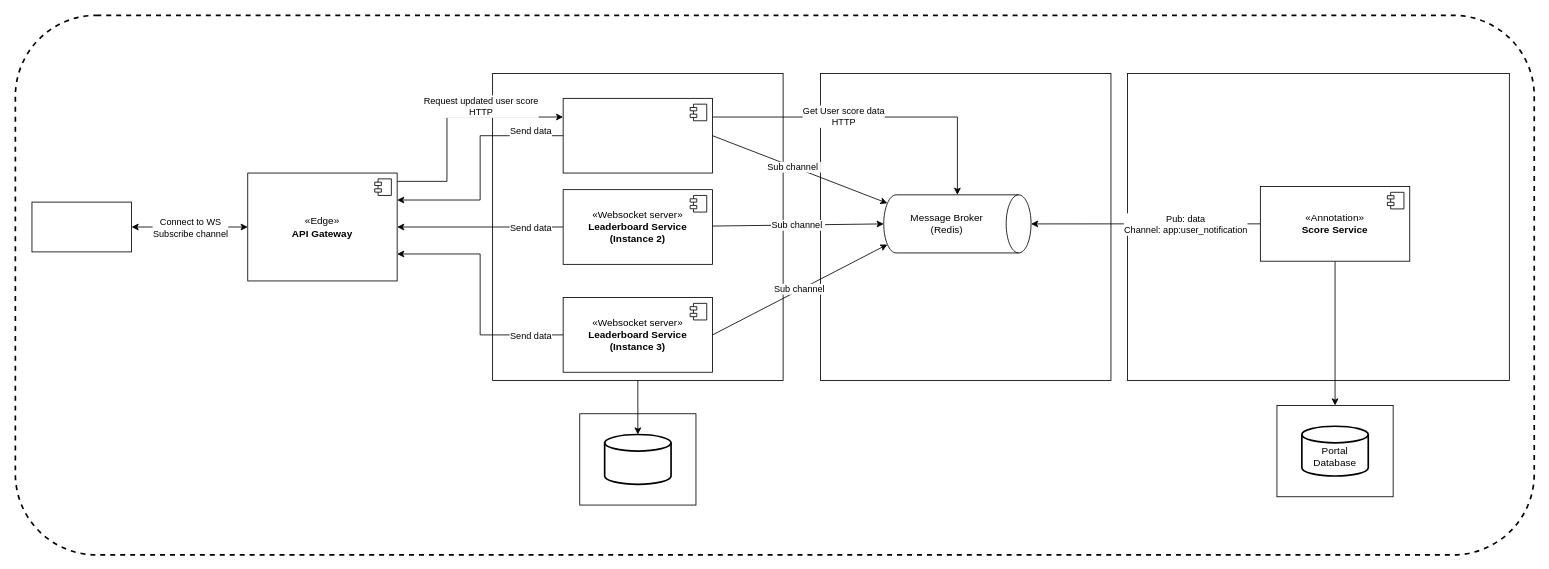
The diagram is 1549 pixels wide and 569 high, and some of its shapes have lost their labels. The centre of each missing label's shape, as x and y in pixels:
"E-Learning Portal" belongs at [81,226].
"Leaderboard Database" belongs at [637,459].
"«Websocket server» Leaderboard Service (Instance 1)" belongs at [637,135].
